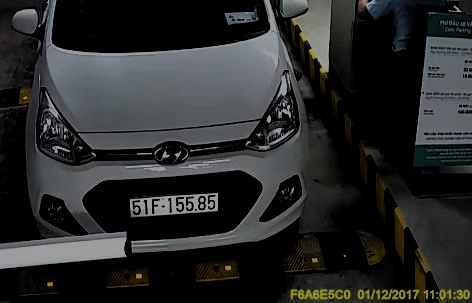plate: (125, 190, 225, 220)
